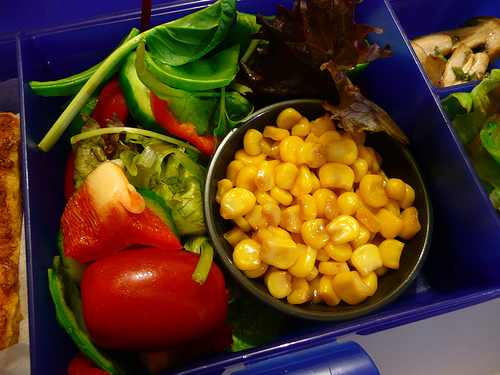corn: (217, 108, 423, 307)
